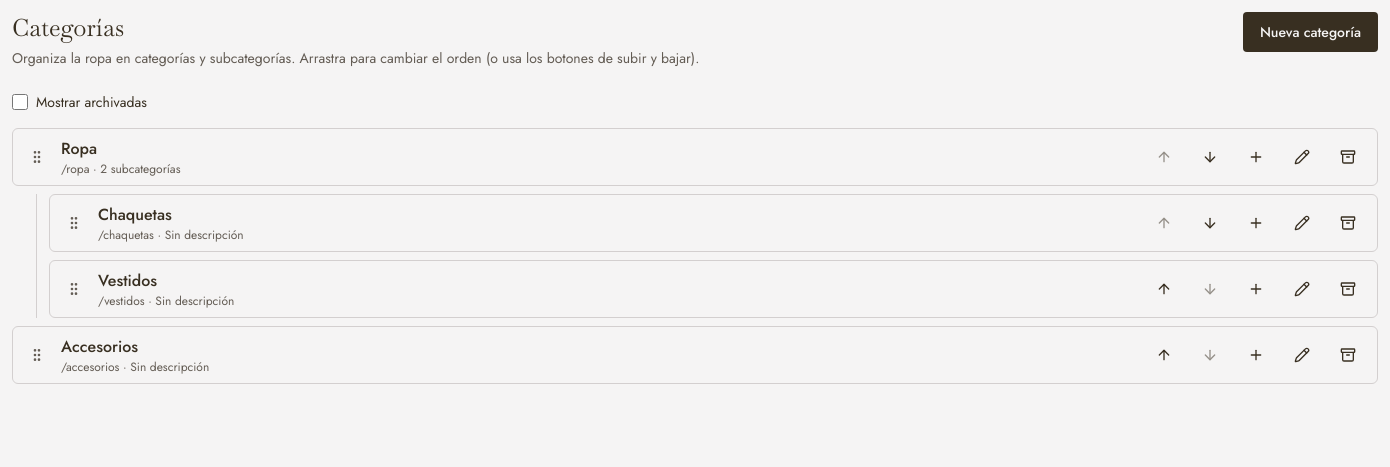
CategoriesPage · árbol › las archivadas están ocultas por defecto y 'Mostrar archivadas' las revela con su etiqueta
Expected: the text "Ropa" is shown, [61,137,97,160]
Expected: the text "Vieja" is not shown
Click the checkbox labelled "Mostrar archivadas" at point(20, 102), box [12,94,28,110]
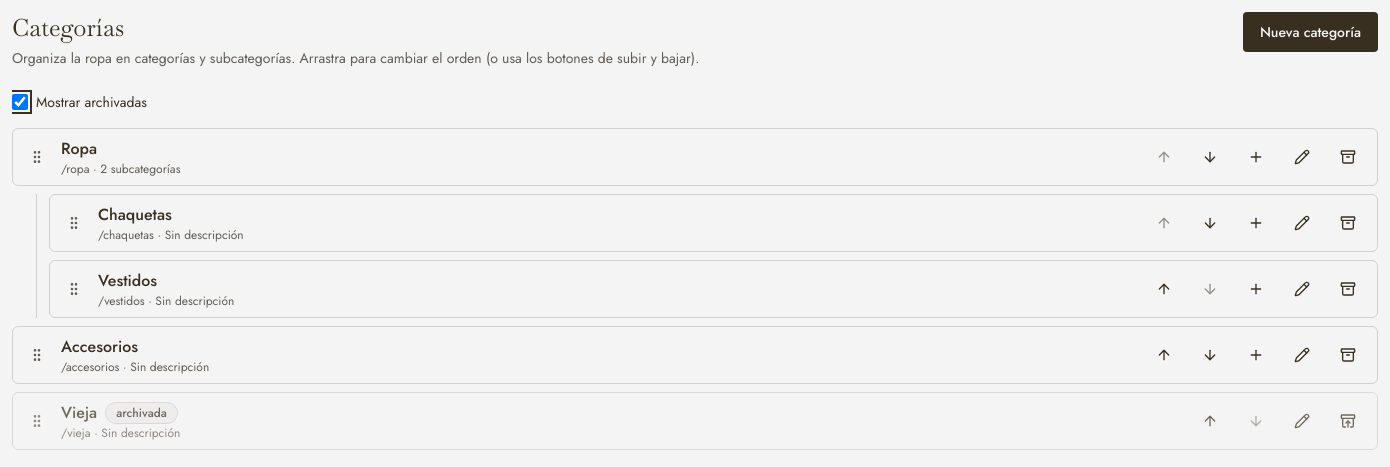
Expected: the text "Vieja" is shown, [61,401,97,424]
Expected: the text "archivada" is shown, [105,402,178,424]
